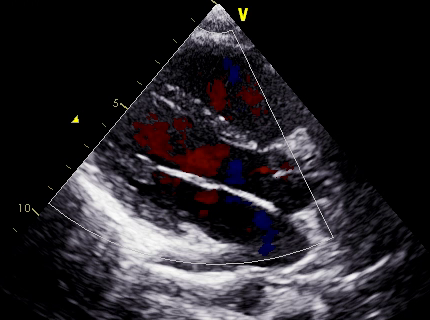AR: (136, 116, 239, 185)
